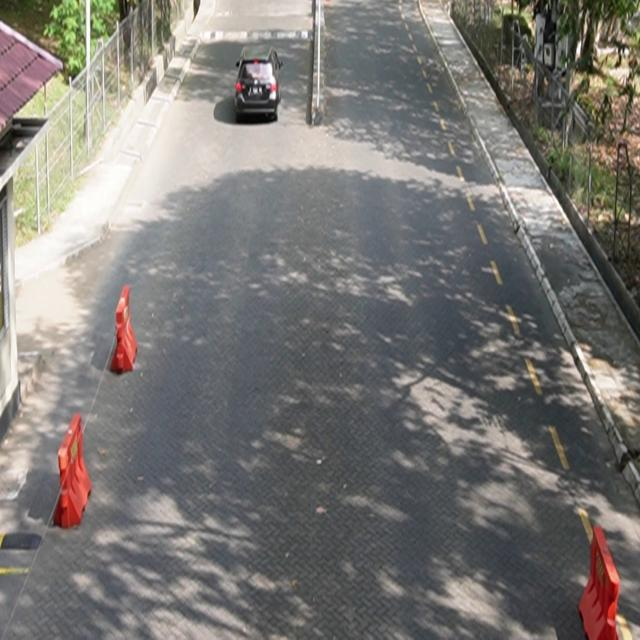car: (235, 43, 284, 123)
